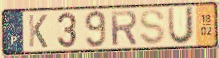3: (55, 11, 78, 50)
9: (83, 9, 108, 50)
K: (27, 13, 49, 49)
R: (109, 9, 139, 48)
S: (139, 8, 167, 47)
U: (166, 5, 196, 47)
